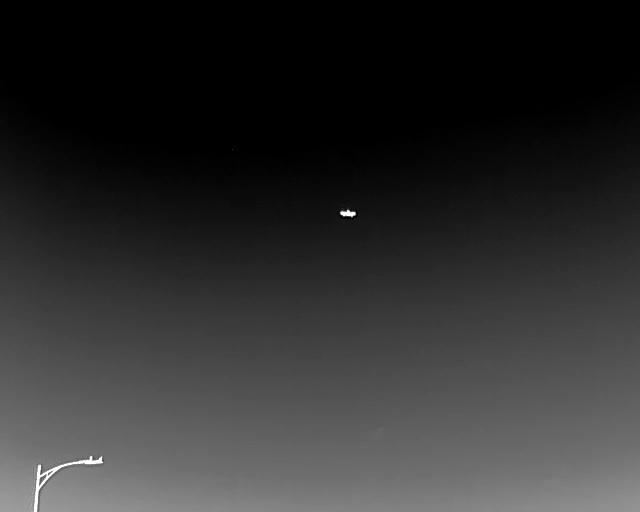fpv-drone: (339, 209, 356, 217)
